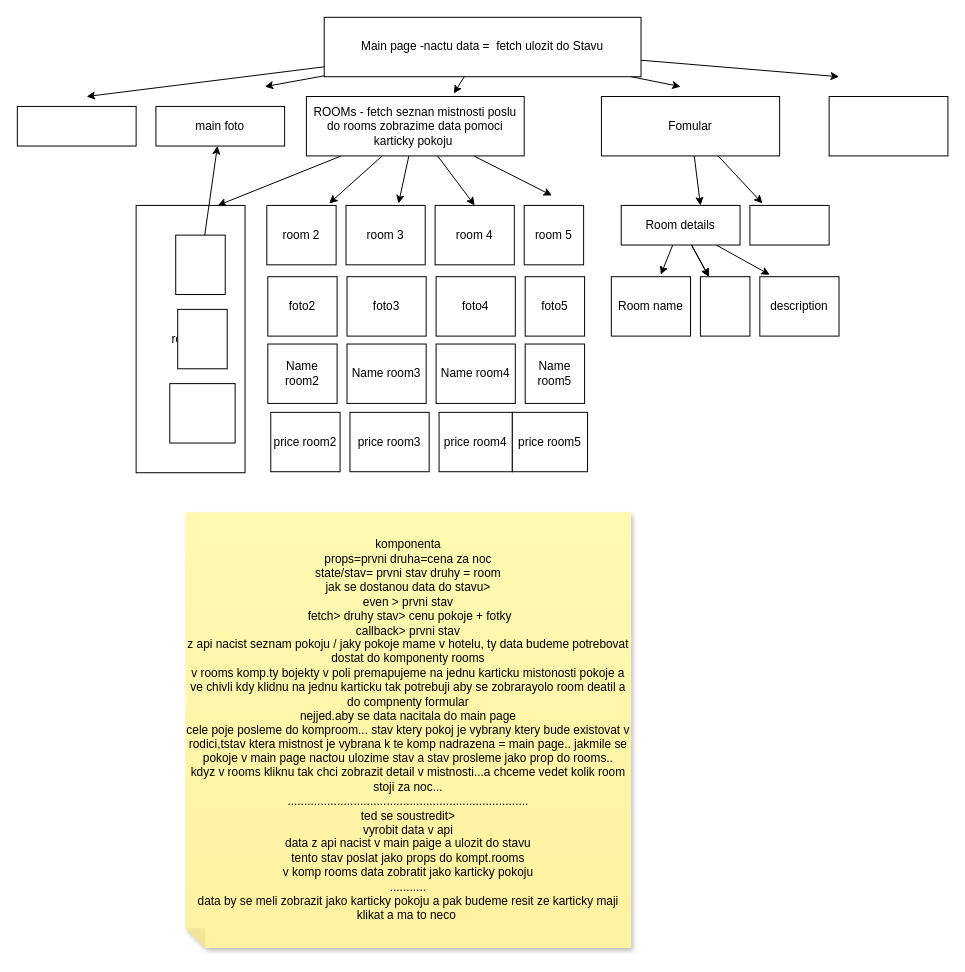
This 965x972 diagram has some shape labels left out. Here are the shapes that lost their labels. From the top down, the centre of each, then its label:
At [76,125]: "header".
At [888,126]: "footer".
At [789,224]: "formular".
At [200,264]: "Foto1".
At [724,306]: "foto".
At [202,338]: "Name room1".
At [202,413]: "price room1".
